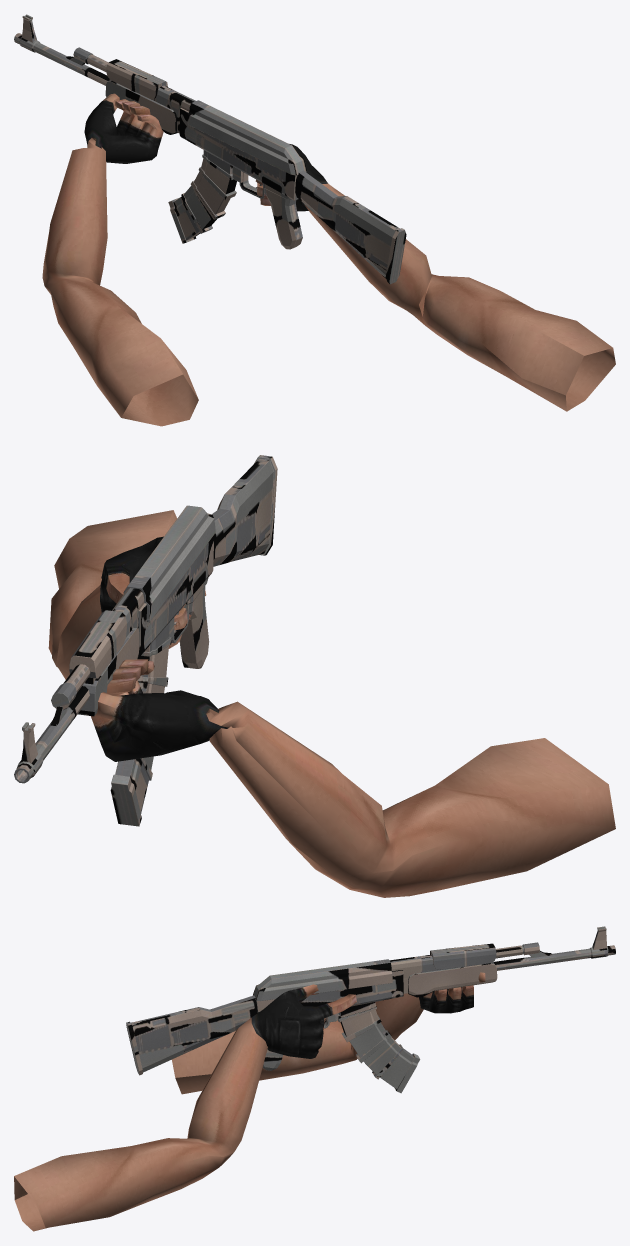
Rendered from gun_ak.glb.
3 renders of one model, top to bottom at view 1: azimuth 30°, elevation 25°; view 2: azimuth 150°, elevation 25°; view 3: azimuth 270°, elevation 25°, orthographic. The views are drawn at different scales.
Parts seen in each view (by area): view 1: body_ARMS, body_QUATP, body_QUAT, mag_QUATP; view 2: body_ARMS, body_QUATP, body_QUAT, mag_QUATP; view 3: body_ARMS, body_QUATP, body_QUAT, mag_QUATP.
Boxes of the visible parts, x1,y1,x2,y2 form: body_ARMS: [42, 93, 615, 426]; body_QUATP: [14, 15, 406, 284]; body_QUAT: [14, 14, 306, 200]; mag_QUATP: [168, 150, 236, 243]; body_ARMS: [48, 510, 615, 897]; body_QUATP: [14, 455, 277, 783]; body_QUAT: [14, 505, 215, 782]; mag_QUATP: [110, 623, 171, 826]; body_ARMS: [14, 972, 485, 1231]; body_QUATP: [126, 927, 615, 1075]; body_QUAT: [253, 926, 615, 1028]; mag_QUATP: [338, 1002, 420, 1093].
Bounding box in the file's own units: 77.25 × 38.53 × 106.
3 materials, 3 textured.
